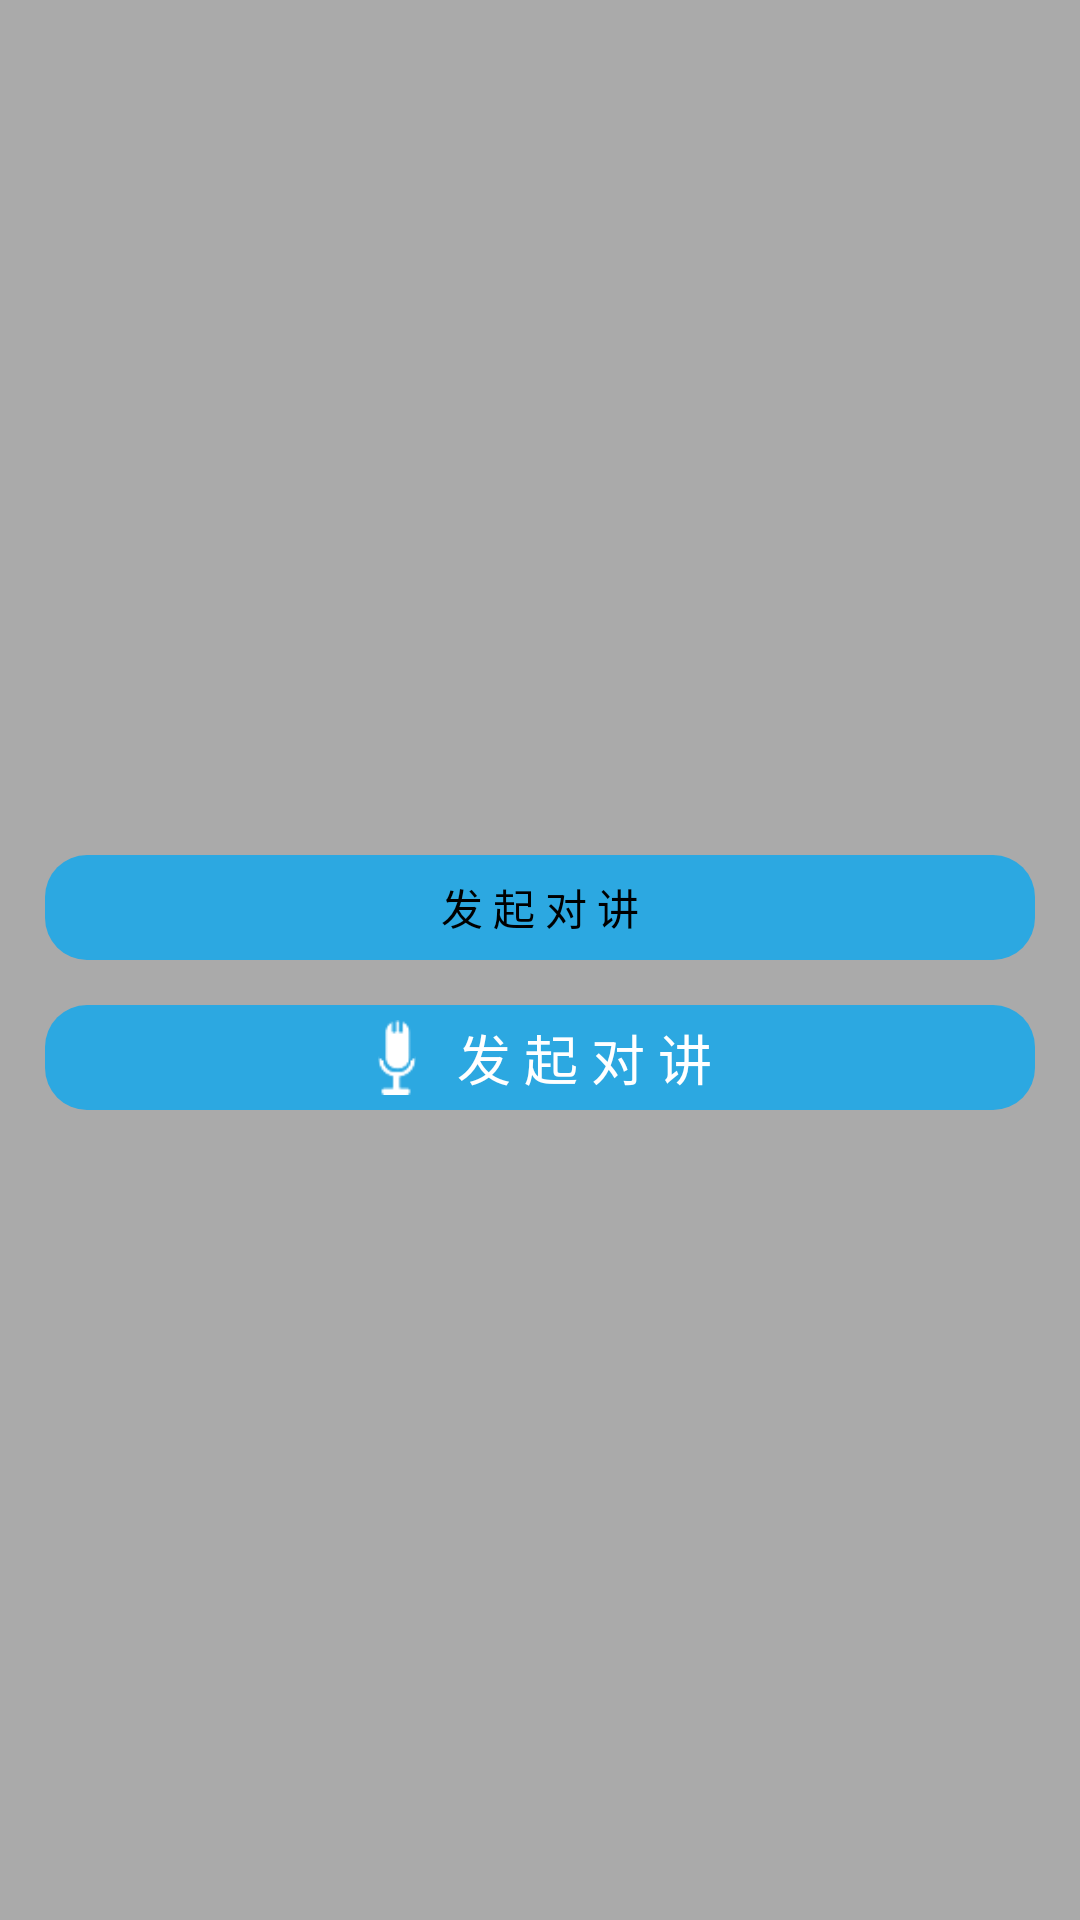

Icon click points for this 1080x1920 phone screenshot, format [x,y]:
talk: [397,1057]
